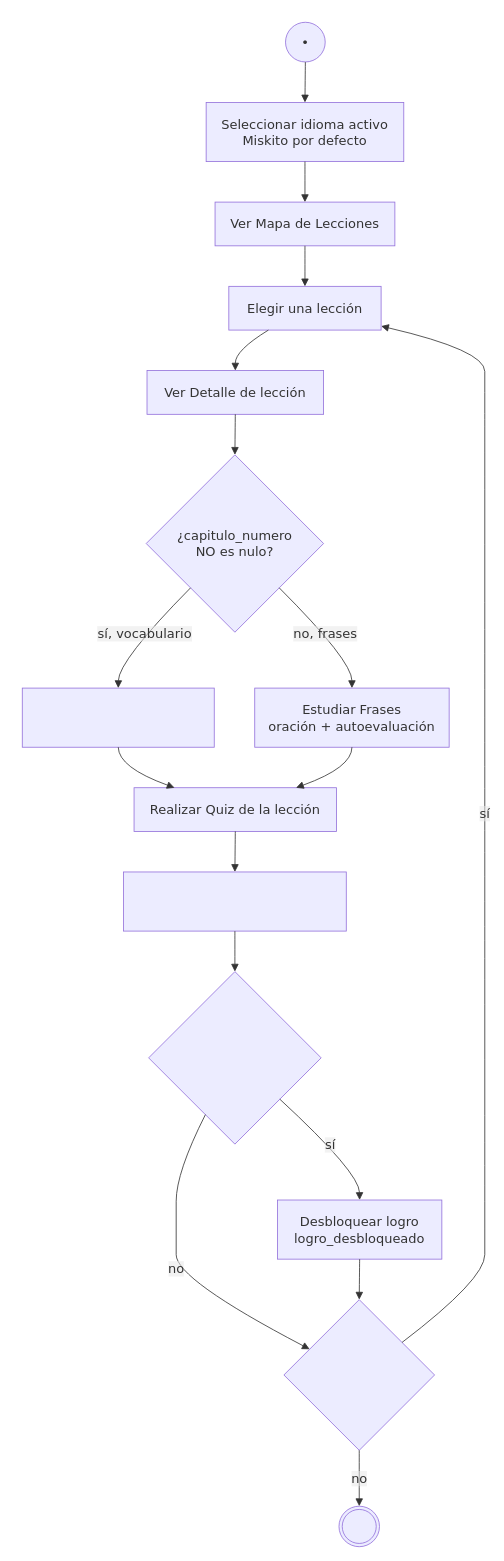
Some shapes in this 504 by 1561 pixel diagram are drawn without their labels. Each missing label, with the box of its shape:
Estudiar Vocabulario tarjeta + autoevaluación: (21, 687, 214, 747)
Guardar progreso progreso_leccion en Supabase: (123, 871, 346, 931)
¿Continuar con otra lección?: (283, 1299, 435, 1450)
¿Se cumple algún criterio de logro?: (148, 971, 321, 1144)
